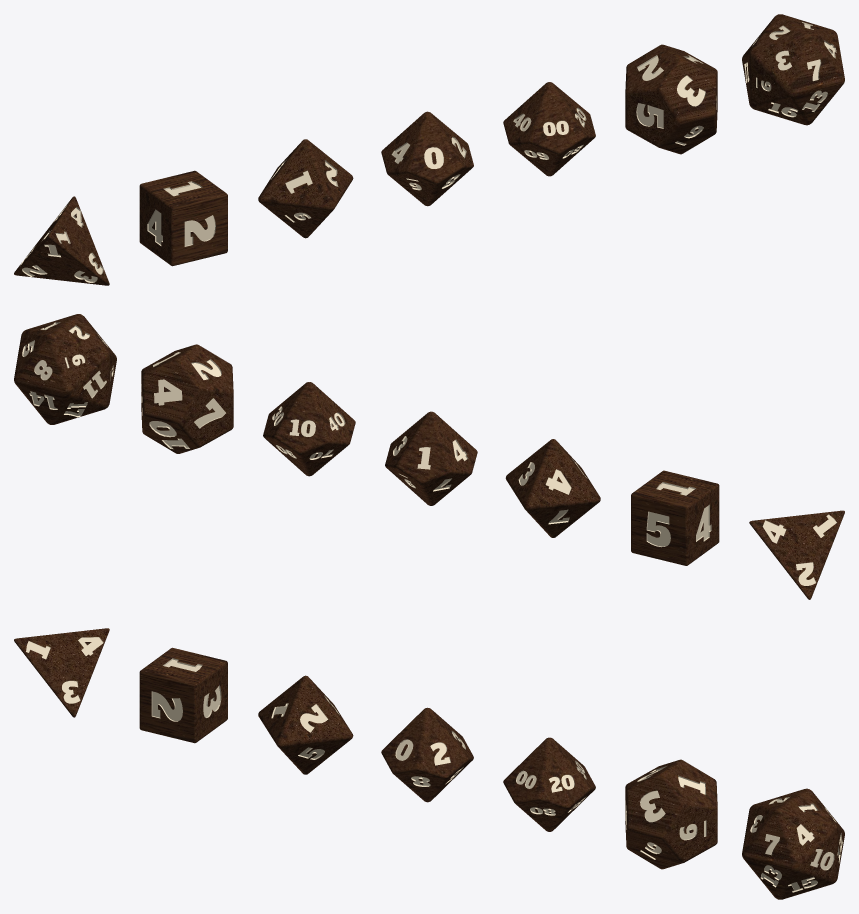
The model's file is walnut.glb.
3 views of the same model, one above another, from view 1: azimuth 30°, elevation 25°; view 2: azimuth 150°, elevation 25°; view 3: azimuth 330°, elevation 25° (orthographic).
Parts seen in each view (by area): view 1: d20, d12, d6, d100, d10, d8, d4; view 2: d20, d12, d6, d100, d10, d8, d4; view 3: d20, d12, d6, d8, d100, d10, d4.
Part boxes in pixels (x1,y1,x2,y2): d20: [742, 14, 844, 125]; d12: [625, 44, 717, 154]; d6: [139, 170, 227, 266]; d100: [503, 82, 595, 176]; d10: [381, 111, 473, 206]; d8: [258, 139, 353, 238]; d4: [14, 196, 109, 285]; d20: [14, 314, 116, 424]; d12: [141, 344, 233, 453]; d6: [631, 470, 719, 565]; d100: [263, 382, 355, 476]; d10: [385, 411, 477, 505]; d8: [505, 439, 600, 537]; d4: [749, 510, 844, 599]; d20: [742, 788, 844, 899]; d12: [625, 759, 717, 869]; d6: [139, 647, 227, 743]; d8: [258, 675, 353, 774]; d100: [503, 737, 595, 831]; d10: [381, 707, 473, 802]; d4: [14, 628, 109, 717].
Size of the model in its own units: 21.14 by 2.47 by 2.47.
Materials: 14 (7 with a texture image).
